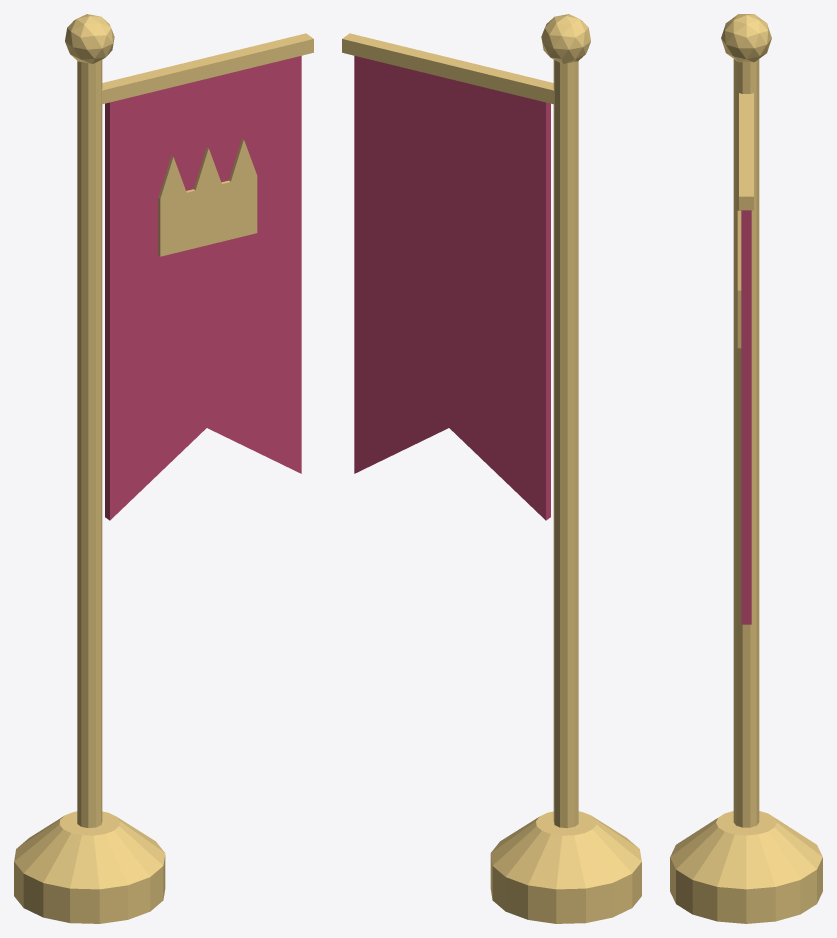
Rendered from HOB_CrownBanner.fbx.
3 views of the same model, side by side, from view 1: azimuth 30°, elevation 25°; view 2: azimuth 150°, elevation 25°; view 3: azimuth 270°, elevation 25° (orthographic).
Parts seen in each view (by area): view 1: HOB_CrownBanner; view 2: HOB_CrownBanner; view 3: HOB_CrownBanner.
Part boxes in pixels (bbox=[...]): HOB_CrownBanner: bbox=[14, 14, 313, 923]; HOB_CrownBanner: bbox=[342, 14, 641, 923]; HOB_CrownBanner: bbox=[670, 14, 822, 923].
Bounding box in the file's own units: 130 × 380 × 60.
